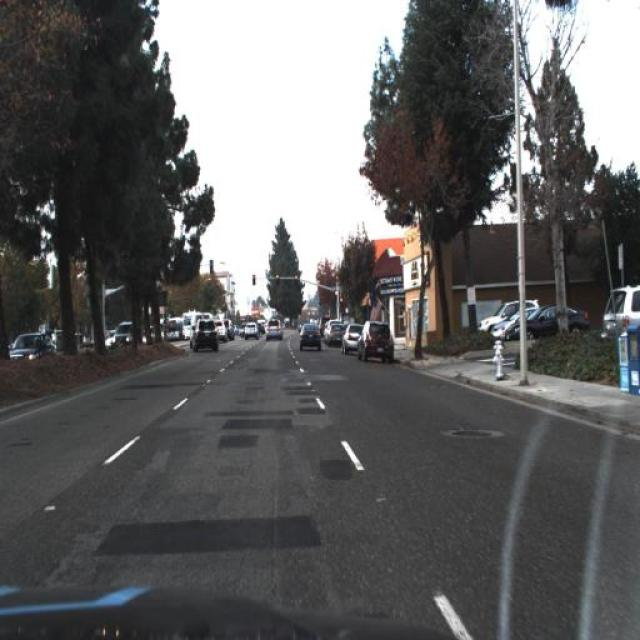car: (512, 300, 593, 340), (355, 316, 396, 372), (475, 298, 540, 332), (5, 329, 57, 367), (188, 318, 222, 358), (108, 314, 137, 354), (294, 320, 324, 352), (341, 320, 364, 360), (324, 318, 348, 351), (325, 317, 346, 348), (262, 317, 284, 343), (243, 322, 258, 339)
